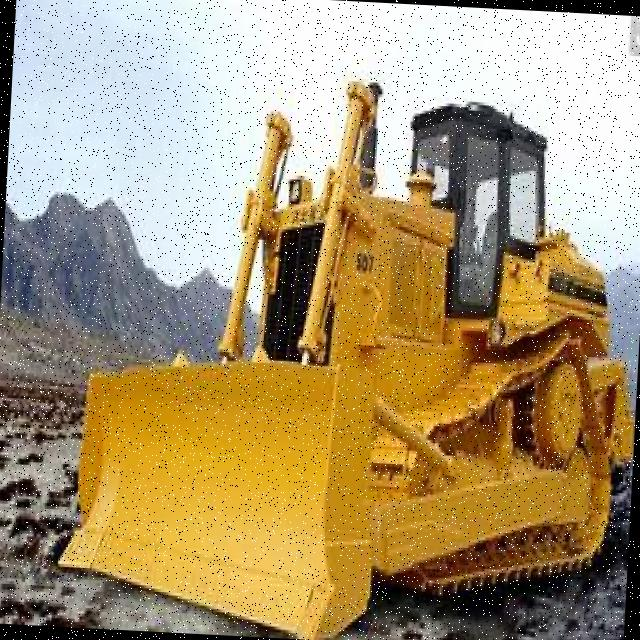Bulldozer: (62, 56, 640, 640)
